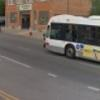buses: (43, 14, 100, 62)
